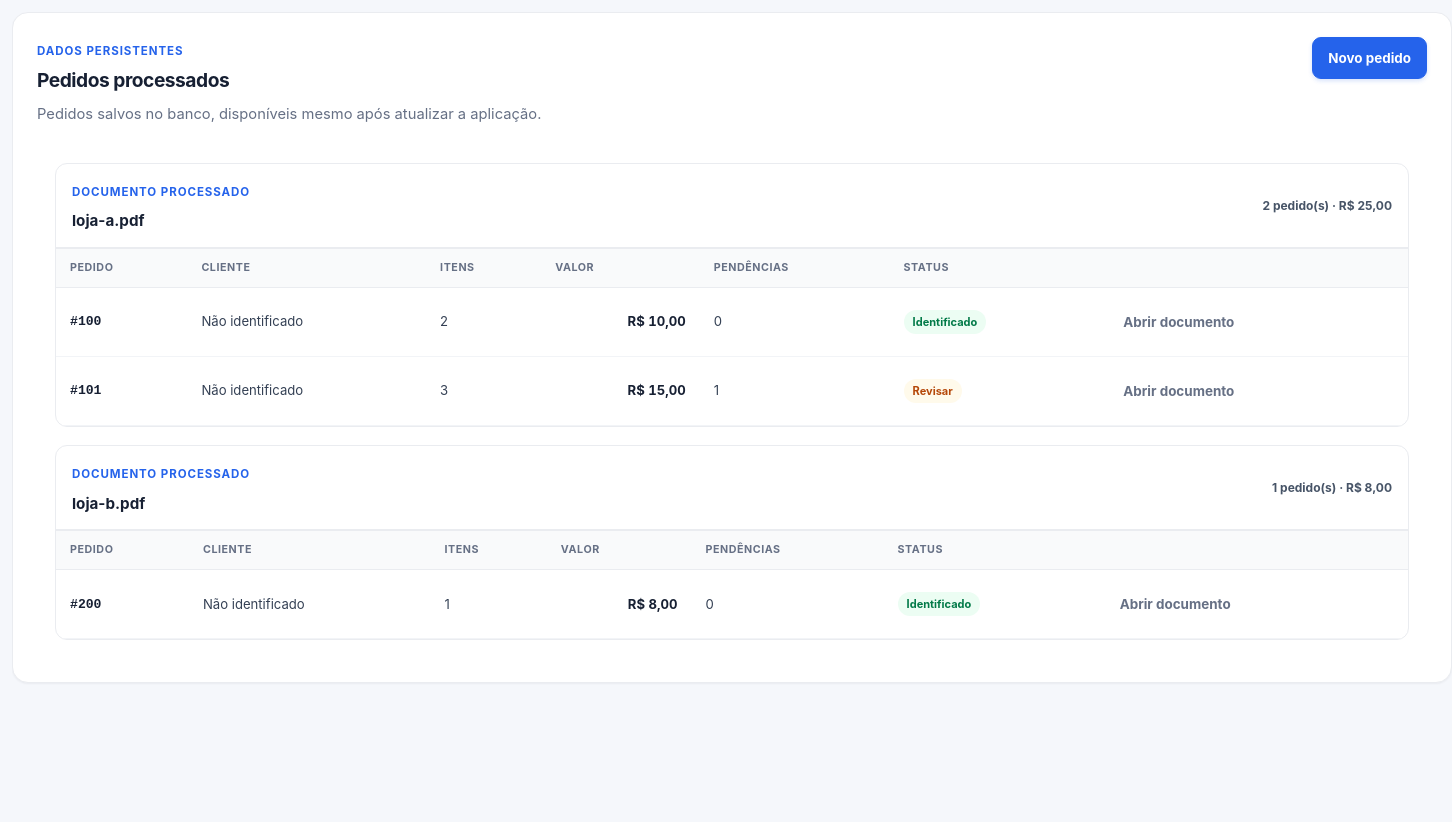
Test: PedidosSessao › separa pedidos por documento processado
Expected: the heading "loja-a.pdf" is shown, [72,211,145,230]
Expected: the heading "loja-b.pdf" is shown, [72,494,145,512]
Click the button "Abrir documento" in the row of "200": (1175, 604) [1104,583,1247,625]
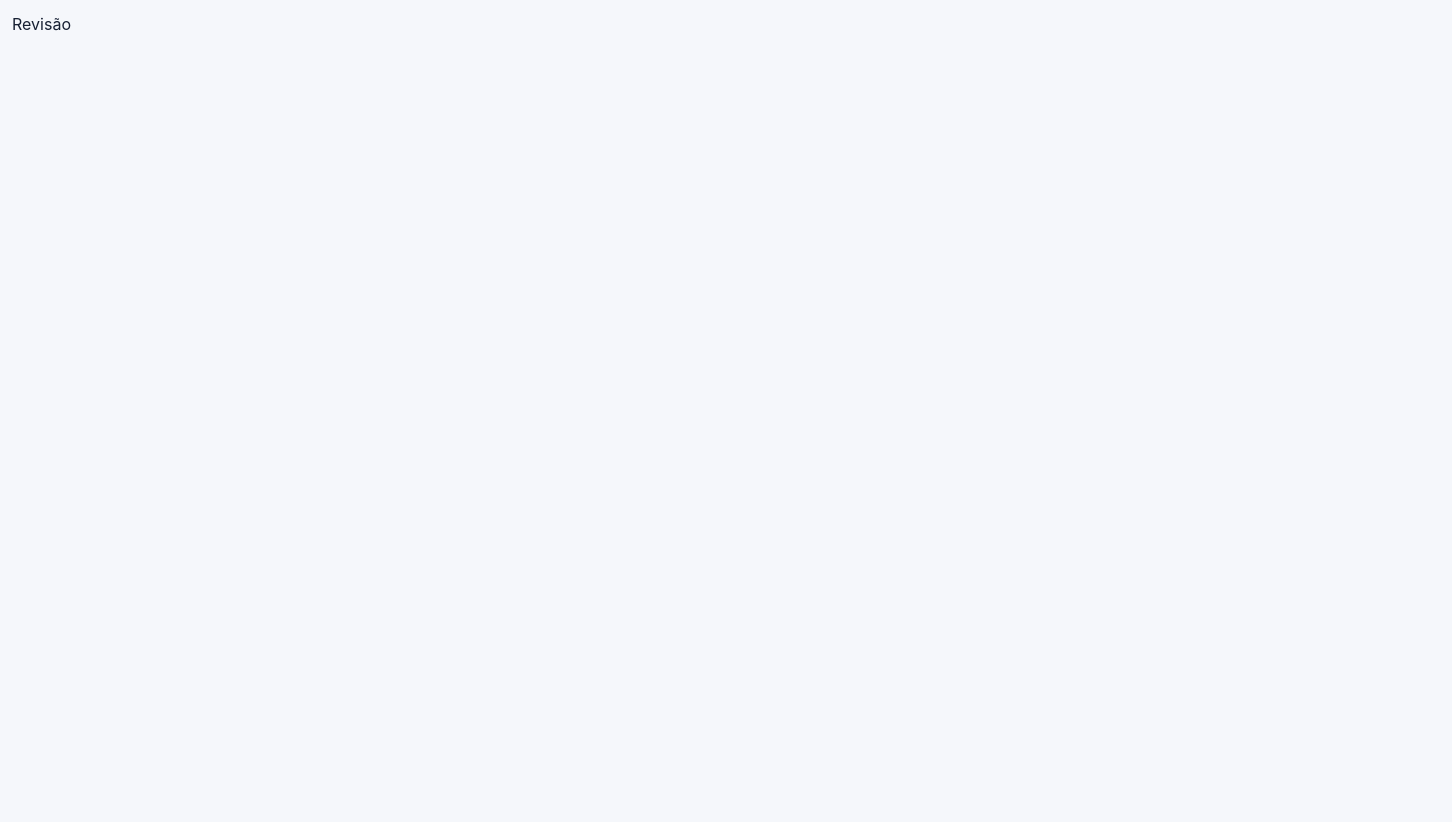
Result: the text "Revisão" is shown at [12,14,71,34]
